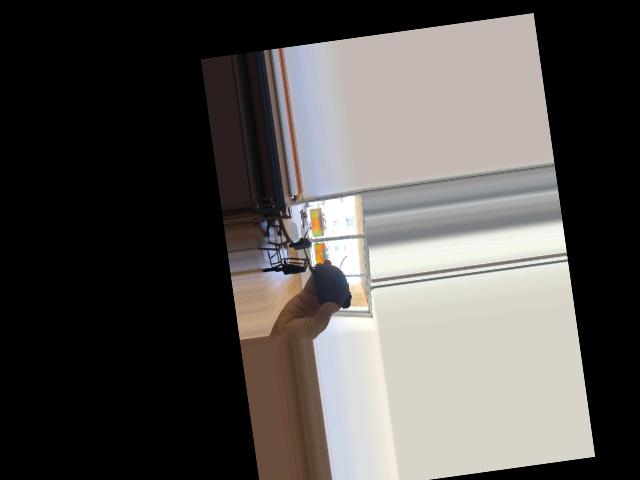beet: (301, 224, 353, 312)
